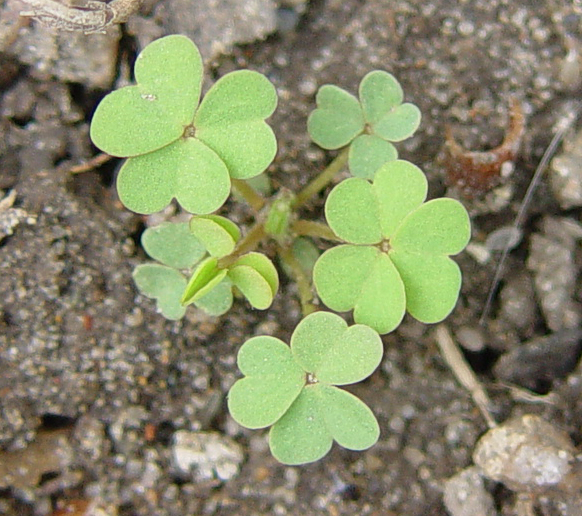oxalis: (108, 55, 493, 425)
